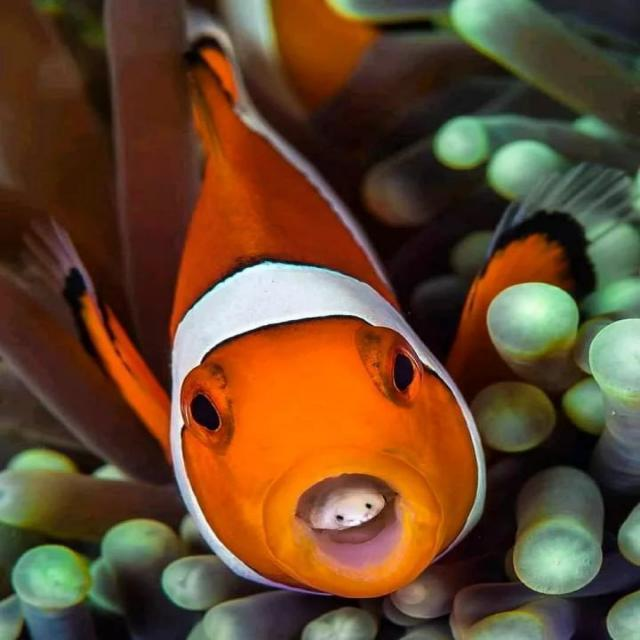ClownFish: (63, 30, 605, 587)
